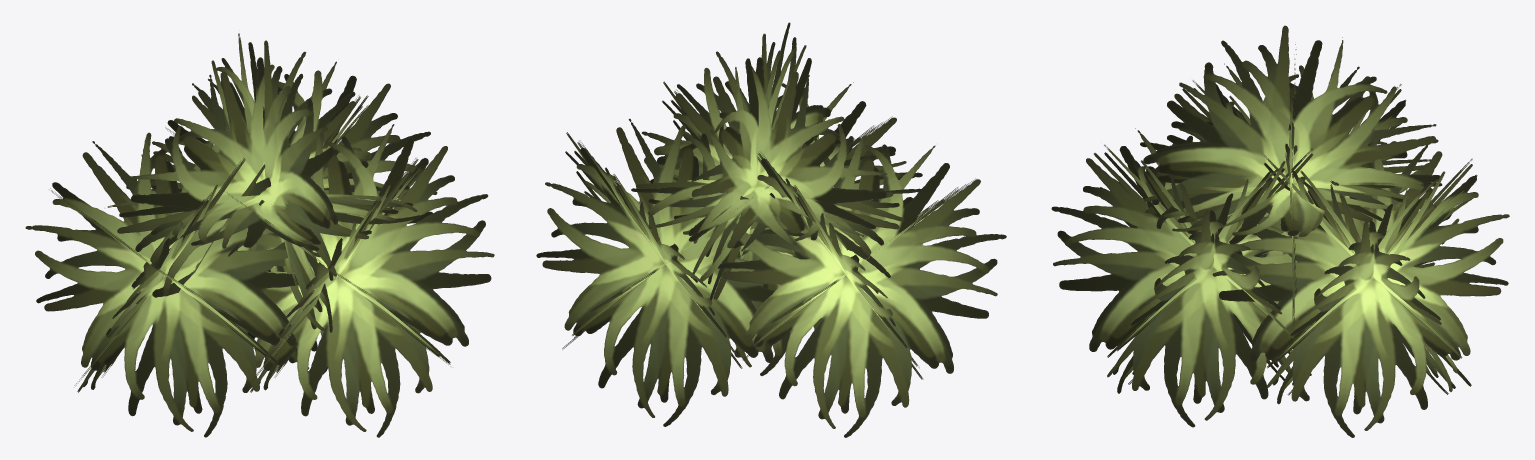
The model's file is HP3_grass004 1.fbx.
3 views of the same model, side by side, from view 1: azimuth 30°, elevation 25°; view 2: azimuth 150°, elevation 25°; view 3: azimuth 270°, elevation 25° (orthographic). The views are drawn at different scales.
Parts seen in each view (by area): view 1: HP3_grass004; view 2: HP3_grass004; view 3: HP3_grass004.
Part boxes in pixels (box(x1,y1,x2,y2)): HP3_grass004: box(25, 33, 494, 437); HP3_grass004: box(536, 22, 1006, 437); HP3_grass004: box(1051, 25, 1509, 437).
Size of the model in its own units: 12.78 by 11.07 by 12.9.
